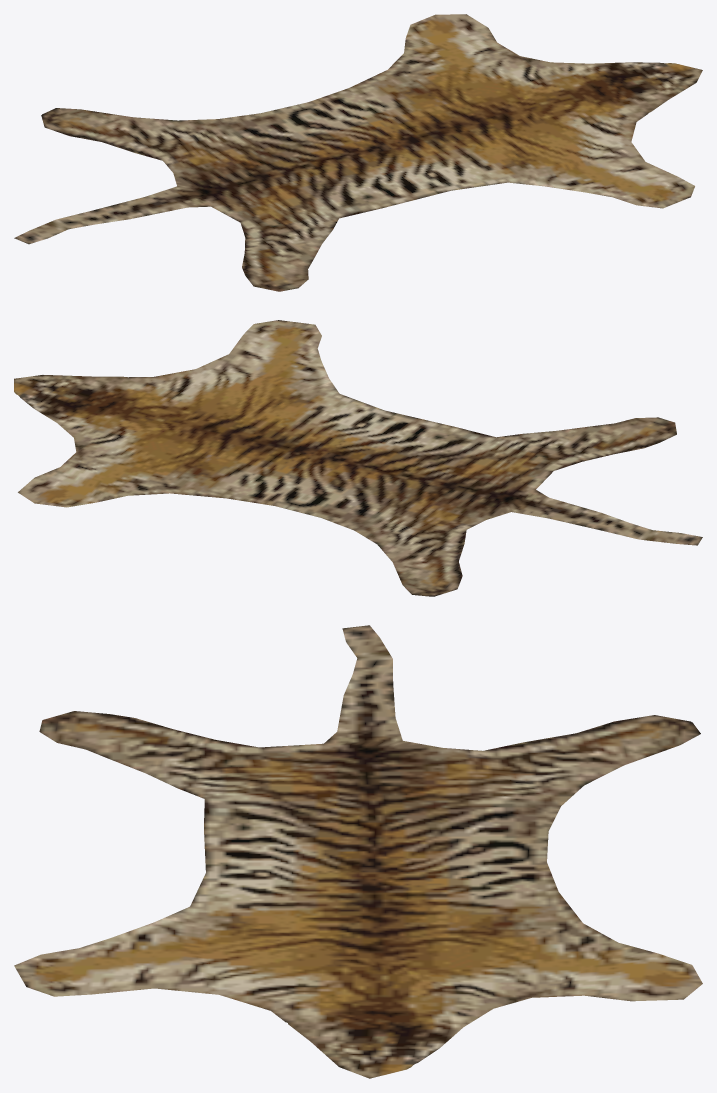
File: man_sdr_rug.obj
The picture shows the model from 3 angles, top to bottom: view 1: azimuth 30°, elevation 25°; view 2: azimuth 150°, elevation 25°; view 3: azimuth 270°, elevation 25°; orthographic projection. The views are drawn at different scales.
Visible parts, largest first — view 1: man_sdr_rug; view 2: man_sdr_rug; view 3: man_sdr_rug.
Boxes of the visible parts, bbox=[...] form: man_sdr_rug: bbox=[14, 14, 702, 291]; man_sdr_rug: bbox=[14, 320, 702, 596]; man_sdr_rug: bbox=[14, 625, 702, 1078].
Size of the model in its own units: 4.1 by 1e-06 by 2.63.
Materials: 1 (1 with a texture image).
